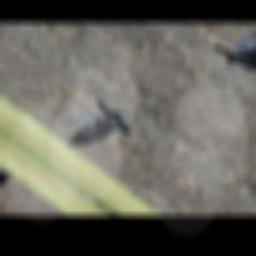Crow: (38, 95, 151, 161)
